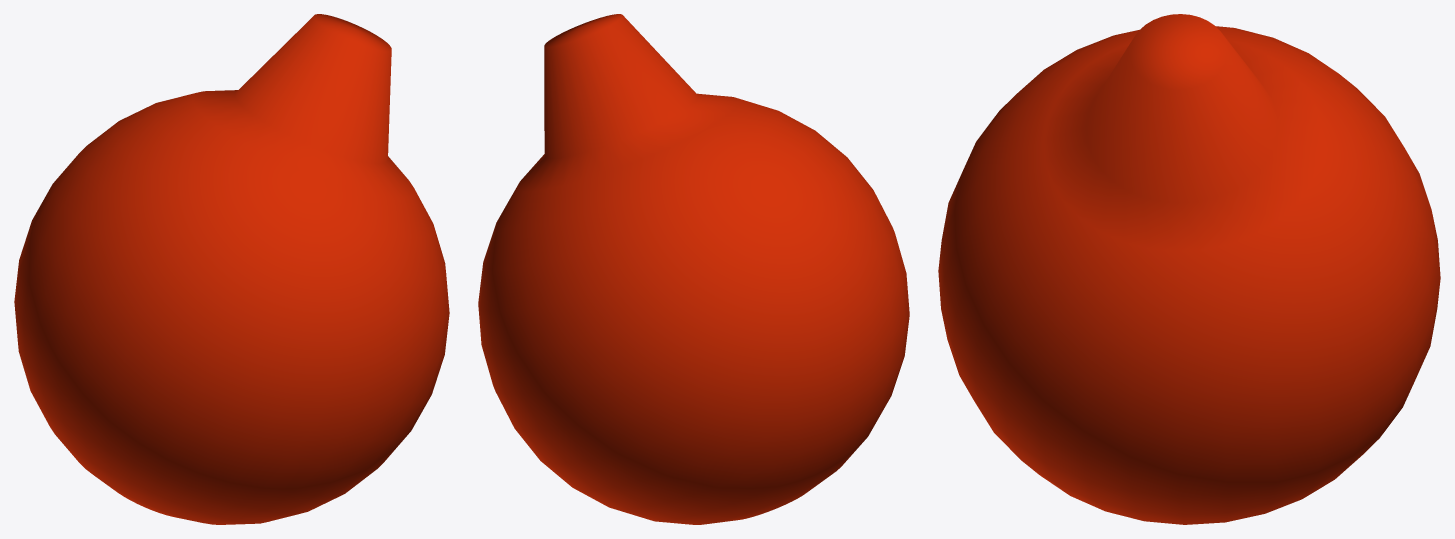
File: pumkinGUI.fbx
3 renders of one model, left to right at view 1: azimuth 30°, elevation 25°; view 2: azimuth 150°, elevation 25°; view 3: azimuth 270°, elevation 25°, orthographic. The views are drawn at different scales.
Visible parts, largest first — view 1: Bomb; view 2: Bomb; view 3: Bomb.
Boxes of the visible parts, box(x1,y1,x2,y2) form: Bomb: box(14, 14, 449, 524); Bomb: box(478, 14, 909, 524); Bomb: box(938, 14, 1440, 524).
Bounding box in the file's own units: 0.0806 × 0.0948 × 0.0807.
